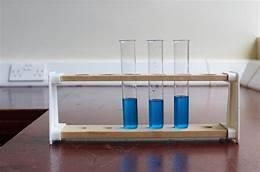Test tube: (104, 12, 203, 148)
